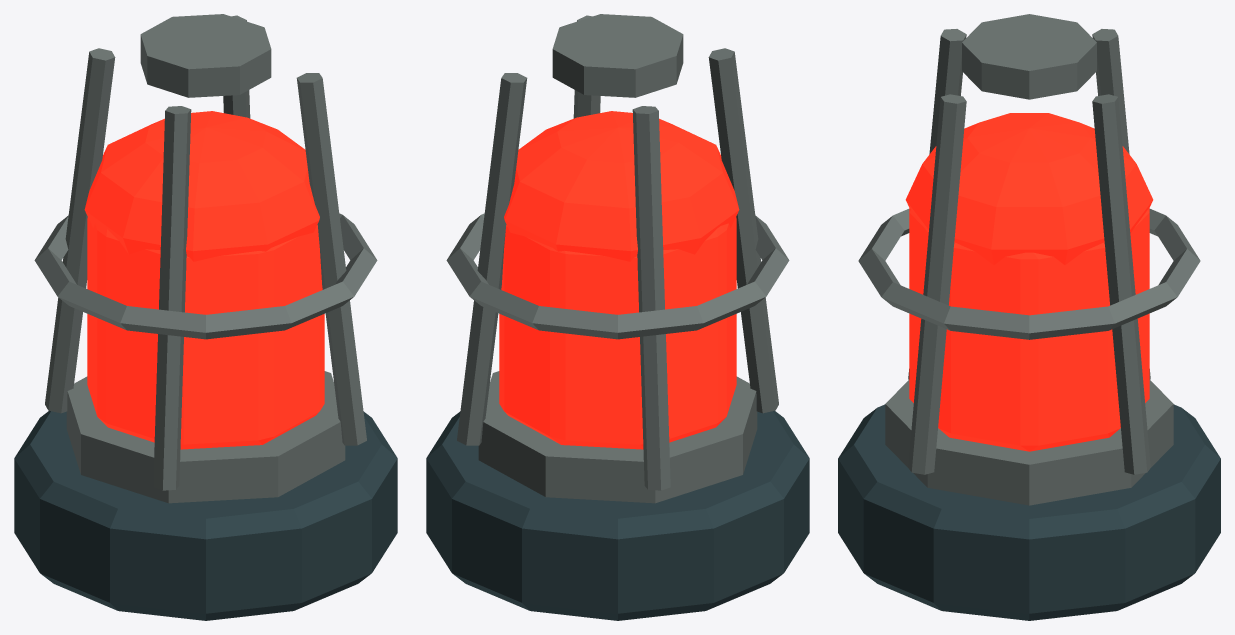
The model's file is warning-beacon.glb.
3 renders of one model, left to right at view 1: azimuth 30°, elevation 25°; view 2: azimuth 150°, elevation 25°; view 3: azimuth 270°, elevation 25°, orthographic.
Visible parts, largest first — view 1: warning-beacon__warning-beacon__hardware, warning-beacon__warning-beacon__danger-red, warning-beacon__warning-beacon__steel; view 2: warning-beacon__warning-beacon__hardware, warning-beacon__warning-beacon__danger-red, warning-beacon__warning-beacon__steel; view 3: warning-beacon__warning-beacon__hardware, warning-beacon__warning-beacon__danger-red, warning-beacon__warning-beacon__steel.
Boxes of the visible parts, x1,y1,x2,y2 form: warning-beacon__warning-beacon__hardware: [34, 14, 377, 503]; warning-beacon__warning-beacon__danger-red: [84, 111, 324, 449]; warning-beacon__warning-beacon__steel: [14, 410, 397, 620]; warning-beacon__warning-beacon__hardware: [446, 14, 789, 503]; warning-beacon__warning-beacon__danger-red: [499, 111, 739, 449]; warning-beacon__warning-beacon__steel: [426, 410, 809, 620]; warning-beacon__warning-beacon__hardware: [858, 14, 1200, 505]; warning-beacon__warning-beacon__danger-red: [905, 113, 1153, 451]; warning-beacon__warning-beacon__steel: [838, 404, 1220, 620].
Size of the model in its own units: 0.17 by 0.247 by 0.17.
